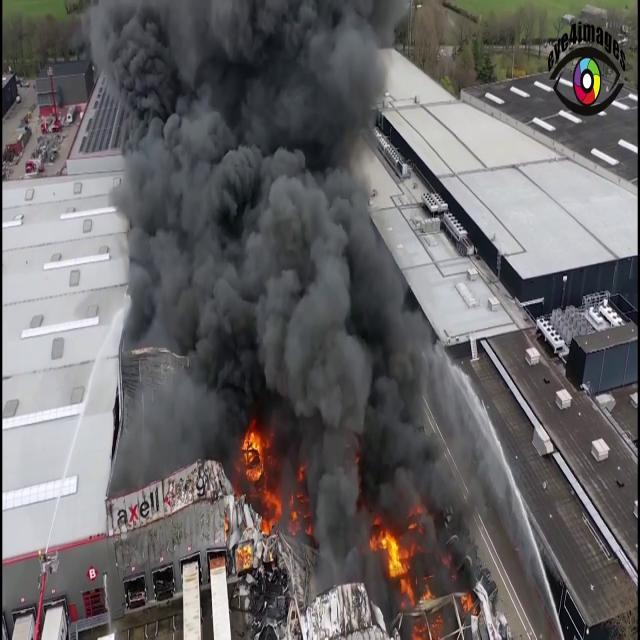Fire: (238, 418, 288, 542), (366, 516, 424, 608)
Smoke: (95, 2, 482, 554)
